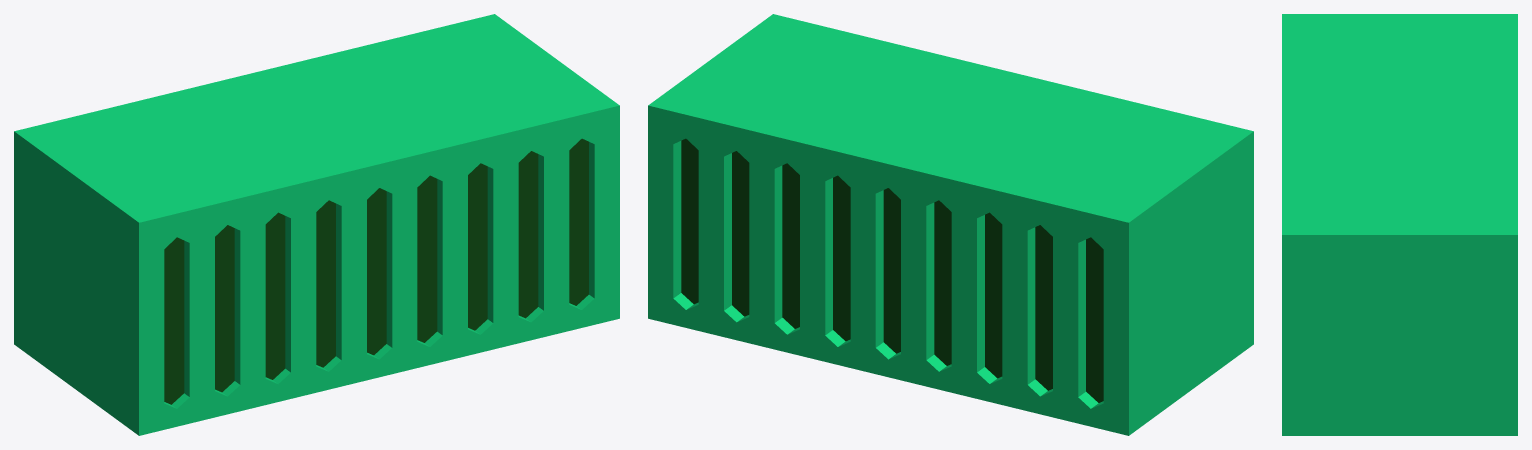
The picture shows the model from 3 angles, left to right: view 1: azimuth 30°, elevation 25°; view 2: azimuth 150°, elevation 25°; view 3: azimuth 270°, elevation 25°; orthographic projection. The views are drawn at different scales.
Visible parts, largest first — view 1: Box001; view 2: Box001; view 3: Box001.
Boxes of the visible parts, <box> form: Box001: <box>14,14,619,435</box>; Box001: <box>648,14,1253,435</box>; Box001: <box>1282,14,1517,435</box>.
Size of the model in its own units: 114 by 48.16 by 51.2.
